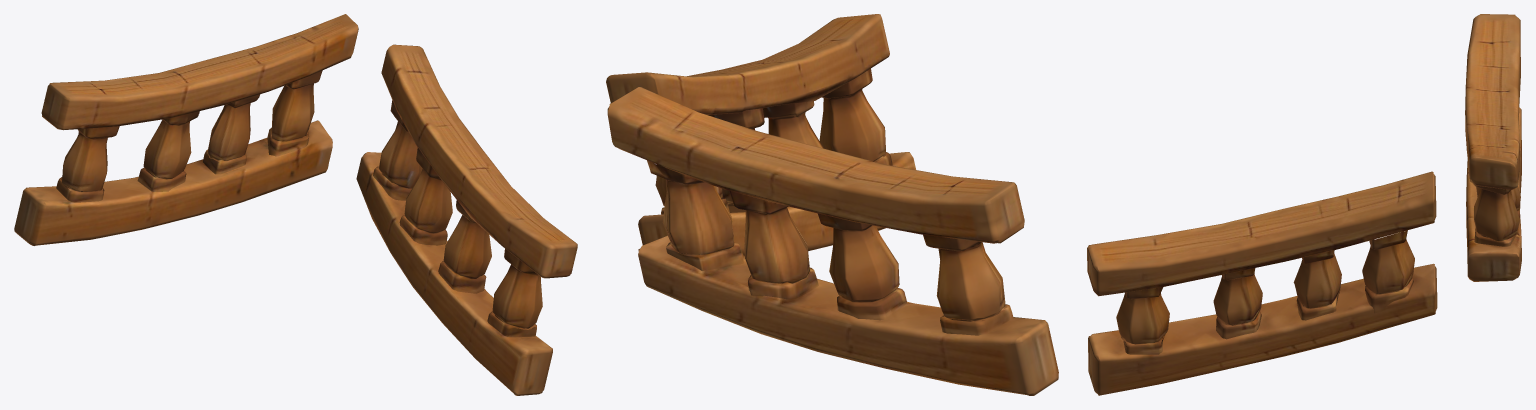
Rendered from rail_bow_pair.glb.
The picture shows the model from 3 angles, left to right: view 1: azimuth 30°, elevation 25°; view 2: azimuth 150°, elevation 25°; view 3: azimuth 270°, elevation 25°; orthographic projection. The views are drawn at different scales.
Parts seen in each view (by area): view 1: rail_a, rail_b; view 2: rail_a, rail_b; view 3: rail_b, rail_a.
Boxes of the visible parts, x1,y1,x2,y2 form: rail_a: (14, 14, 358, 245); rail_b: (356, 44, 577, 395); rail_a: (607, 86, 1058, 395); rail_b: (606, 14, 915, 256); rail_b: (1087, 171, 1437, 395); rail_a: (1465, 14, 1521, 281).
Size of the model in its own units: 1.34 by 0.805 by 1.33.
Materials: 1 (1 with a texture image).
